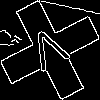V: (25, 25, 76, 81)
